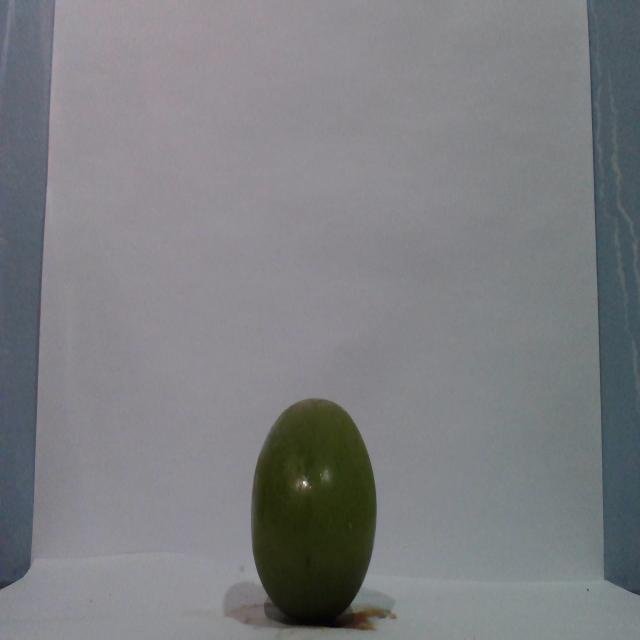Red: (249, 396, 378, 622)
